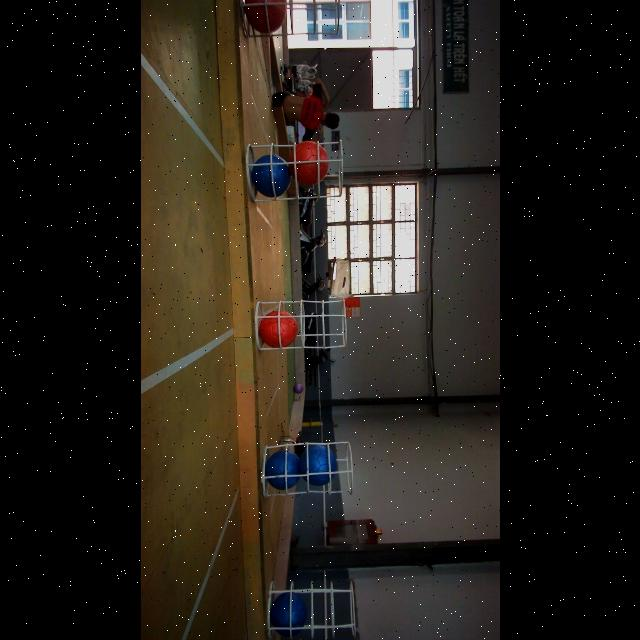B: (250, 154, 288, 198), (298, 442, 336, 486), (268, 594, 306, 636), (264, 448, 298, 490)
R: (288, 140, 329, 186), (257, 310, 297, 348), (242, 0, 286, 34)
